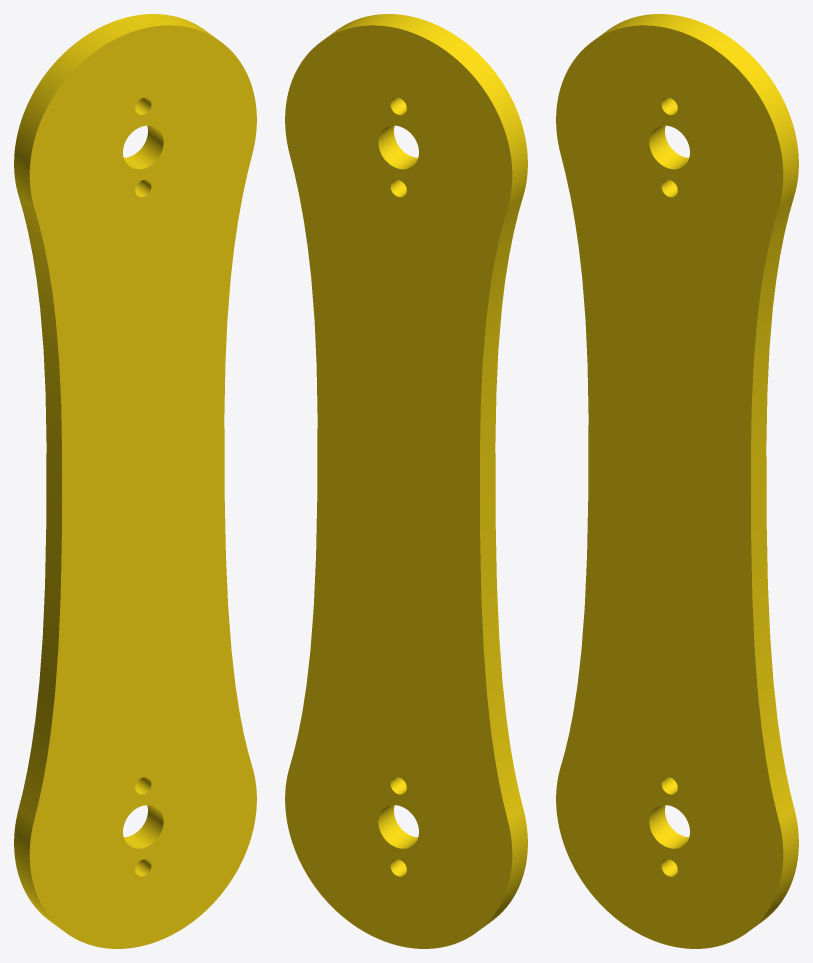
Rendered from Shoulder.glb.
The picture shows the model from 3 angles, left to right: view 1: azimuth 30°, elevation 25°; view 2: azimuth 150°, elevation 25°; view 3: azimuth 330°, elevation 25°; orthographic projection.
Visible parts, largest first — view 1: Part 15; view 2: Part 15; view 3: Part 15.
Boxes of the visible parts, x1=… form: Part 15: x1=14, y1=14, x2=256, y2=948; Part 15: x1=285, y1=14, x2=527, y2=948; Part 15: x1=556, y1=14, x2=798, y2=948.
Size of the model in its own units: 0.042 by 0.162 by 0.005.
